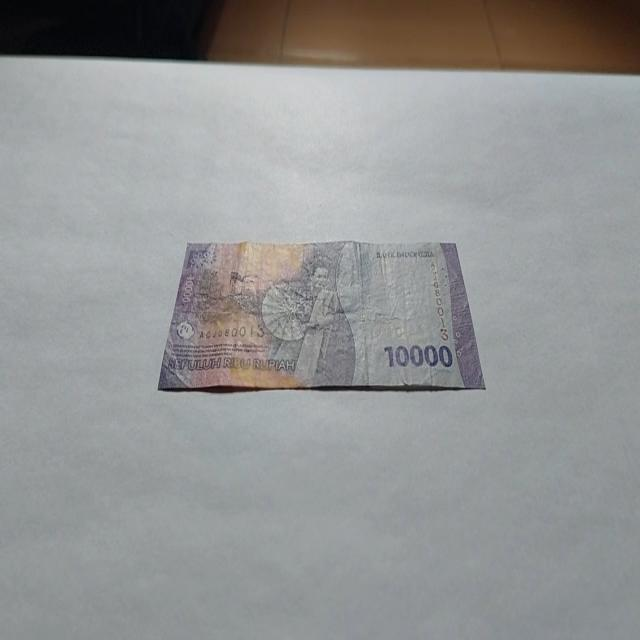sepuluh ribu rupiah: (156, 237, 486, 394)
